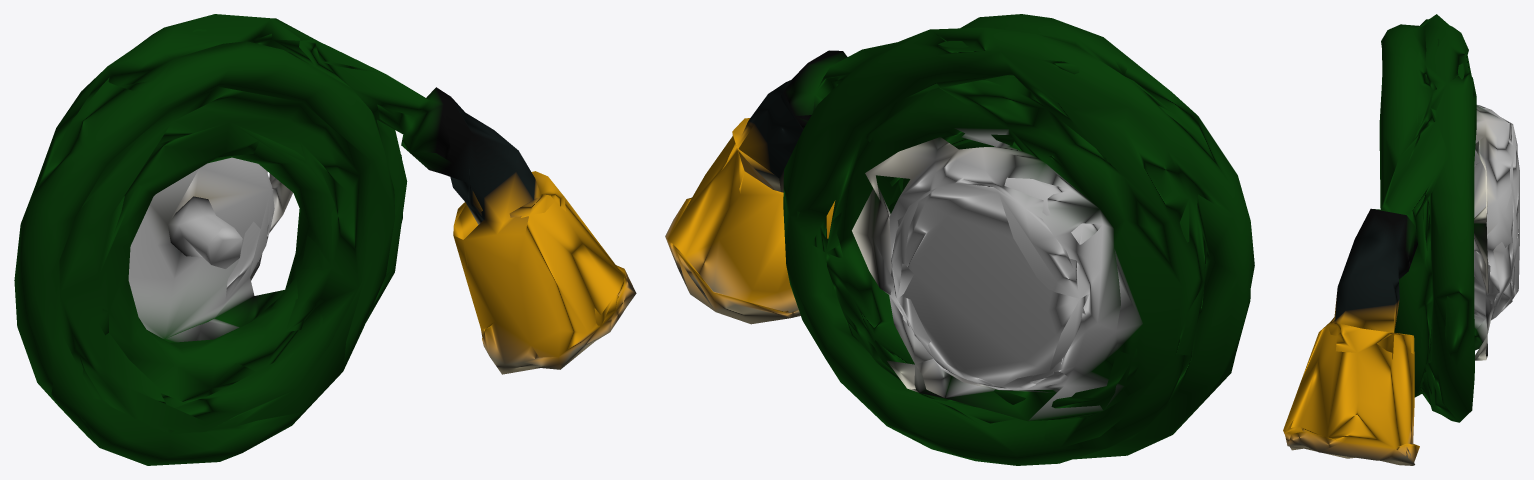
The model's file is gen3d-garden-hose-lod0.glb.
The picture shows the model from 3 angles, left to right: view 1: azimuth 30°, elevation 25°; view 2: azimuth 150°, elevation 25°; view 3: azimuth 270°, elevation 25°; orthographic projection. The views are drawn at different scales.
Visible parts, largest first — view 1: part_0; view 2: part_0; view 3: part_0.
Boxes of the visible parts, bbox=[...] form: part_0: bbox=[14, 14, 636, 465]; part_0: bbox=[665, 14, 1254, 465]; part_0: bbox=[1283, 14, 1519, 465].
Bounding box in the file's own units: 1.43 × 0.9974 × 0.5993.
